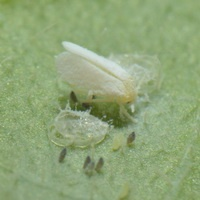insect: (55, 41, 159, 103), (56, 41, 136, 121), (48, 109, 109, 147)
